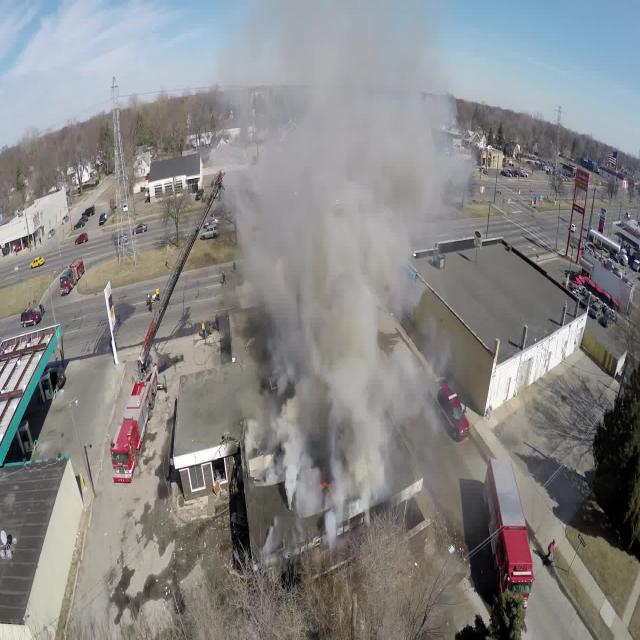Smoke: (229, 0, 474, 532)
